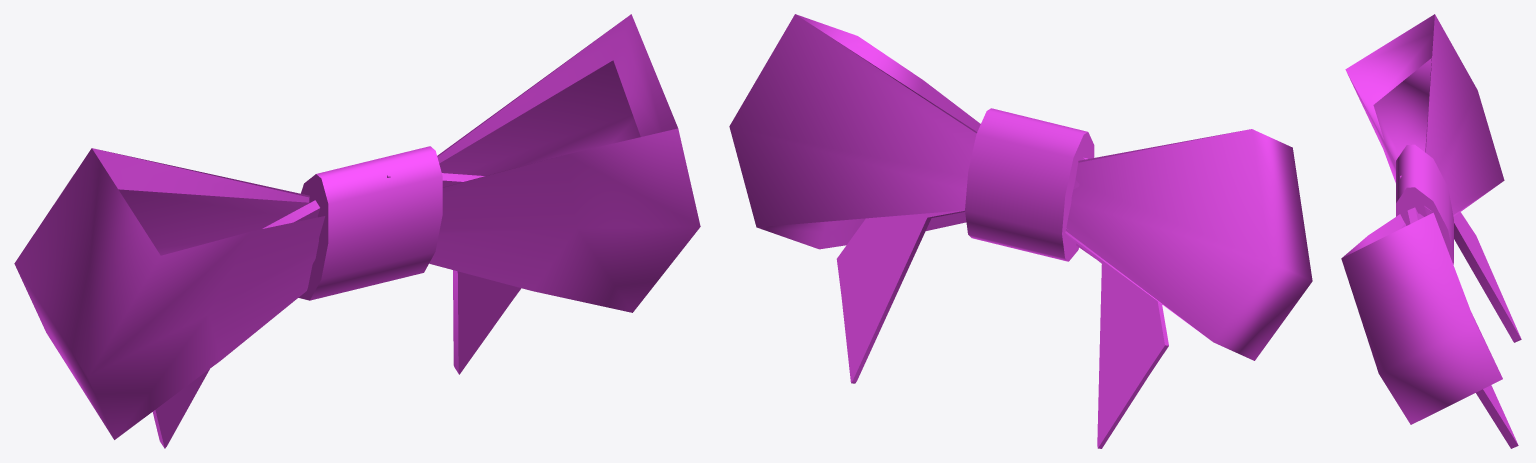
The model's file is Lazo.fbx.
The picture shows the model from 3 angles, left to right: view 1: azimuth 30°, elevation 25°; view 2: azimuth 150°, elevation 25°; view 3: azimuth 270°, elevation 25°; orthographic projection. The views are drawn at different scales.
Parts seen in each view (by area): view 1: polySurface6, polySurface7, polySurface8, polySurface5; view 2: polySurface6, polySurface7, polySurface8, polySurface5; view 3: polySurface6, polySurface7, polySurface5, polySurface8.
Boxes of the visible parts, bbox=[...] form: polySurface6: bbox=[14, 14, 700, 439]; polySurface7: bbox=[298, 146, 442, 300]; polySurface8: bbox=[387, 173, 521, 374]; polySurface5: bbox=[152, 200, 320, 448]; polySurface6: bbox=[729, 14, 1312, 360]; polySurface7: bbox=[965, 108, 1094, 261]; polySurface8: bbox=[836, 210, 964, 383]; polySurface5: bbox=[1066, 157, 1168, 448]; polySurface6: bbox=[1341, 14, 1504, 424]; polySurface7: bbox=[1396, 144, 1453, 264]; polySurface5: bbox=[1453, 212, 1521, 342]; polySurface8: bbox=[1400, 175, 1518, 448].
Size of the model in its own units: 29.45 by 16.45 by 9.44.
